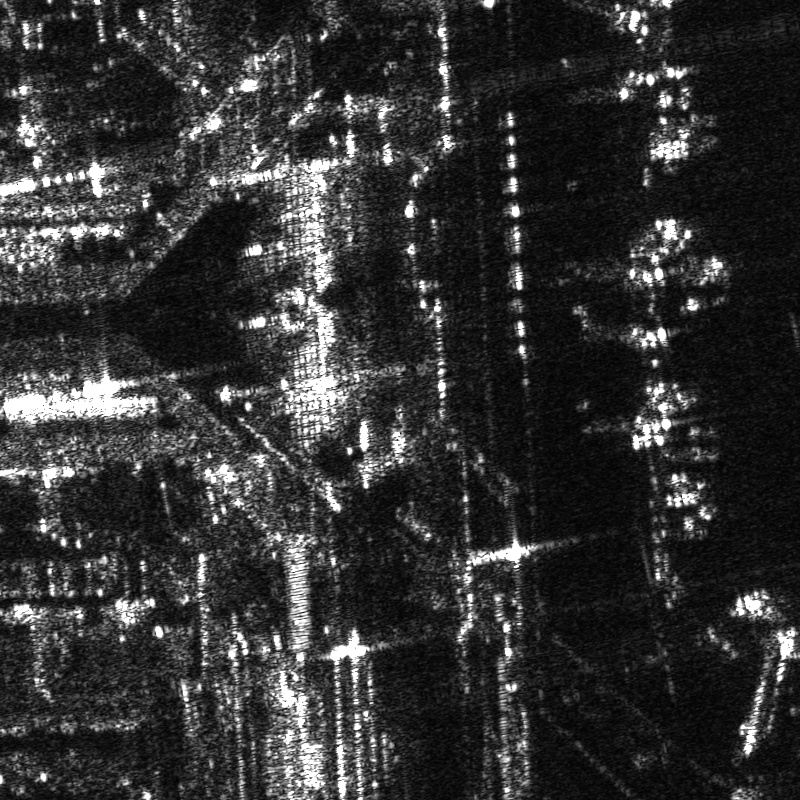A320/321: (624, 207, 731, 316), (614, 374, 724, 464)
